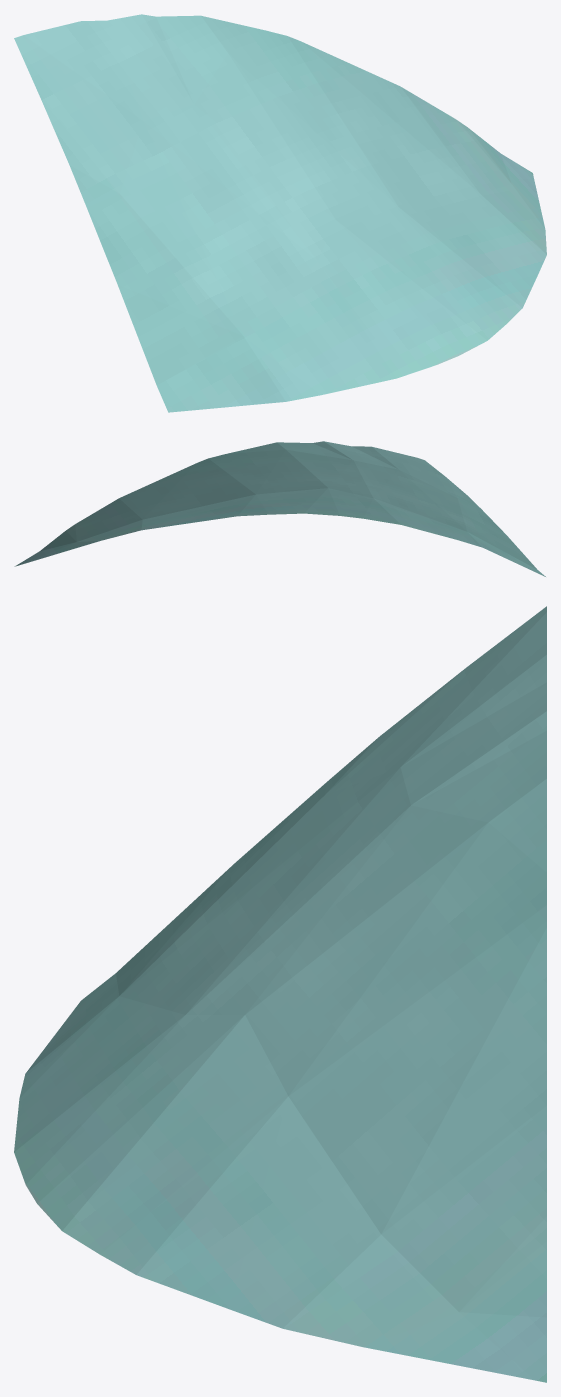
The picture shows the model from 3 angles, top to bottom: view 1: azimuth 30°, elevation 25°; view 2: azimuth 150°, elevation 25°; view 3: azimuth 270°, elevation 25°; orthographic projection. The views are drawn at different scales.
Bounding box in the file's own units: 23.42 × 11.31 × 13.8.
1 material, 1 textured.
